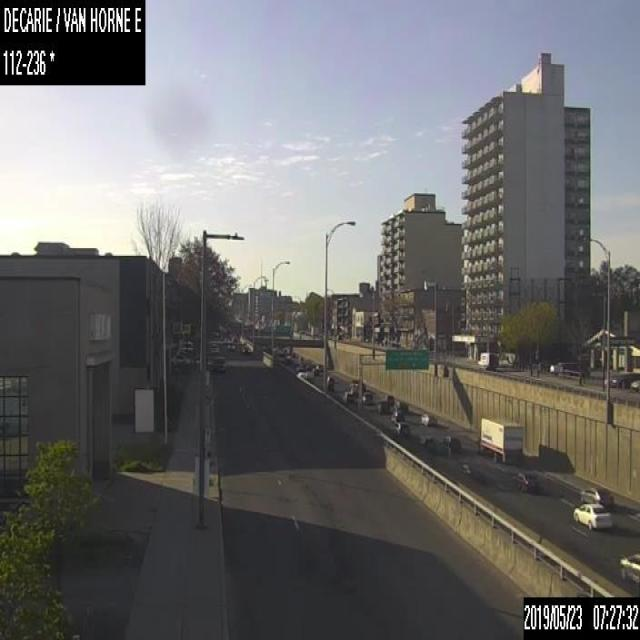vehicle: (478, 416, 524, 463), (572, 504, 610, 530), (617, 549, 639, 587), (580, 487, 614, 506), (514, 469, 537, 491), (604, 372, 634, 387), (476, 352, 496, 369), (456, 460, 474, 477), (442, 434, 459, 450), (392, 422, 408, 438), (419, 434, 436, 449), (342, 390, 355, 406), (421, 412, 436, 425), (393, 400, 408, 412), (391, 410, 404, 423), (215, 356, 226, 371), (173, 354, 190, 362), (348, 382, 358, 394), (362, 391, 372, 403), (378, 400, 388, 412), (629, 379, 639, 390), (239, 343, 250, 353), (385, 393, 393, 403), (210, 342, 218, 352), (226, 340, 234, 350), (326, 374, 333, 385), (312, 366, 318, 374)
